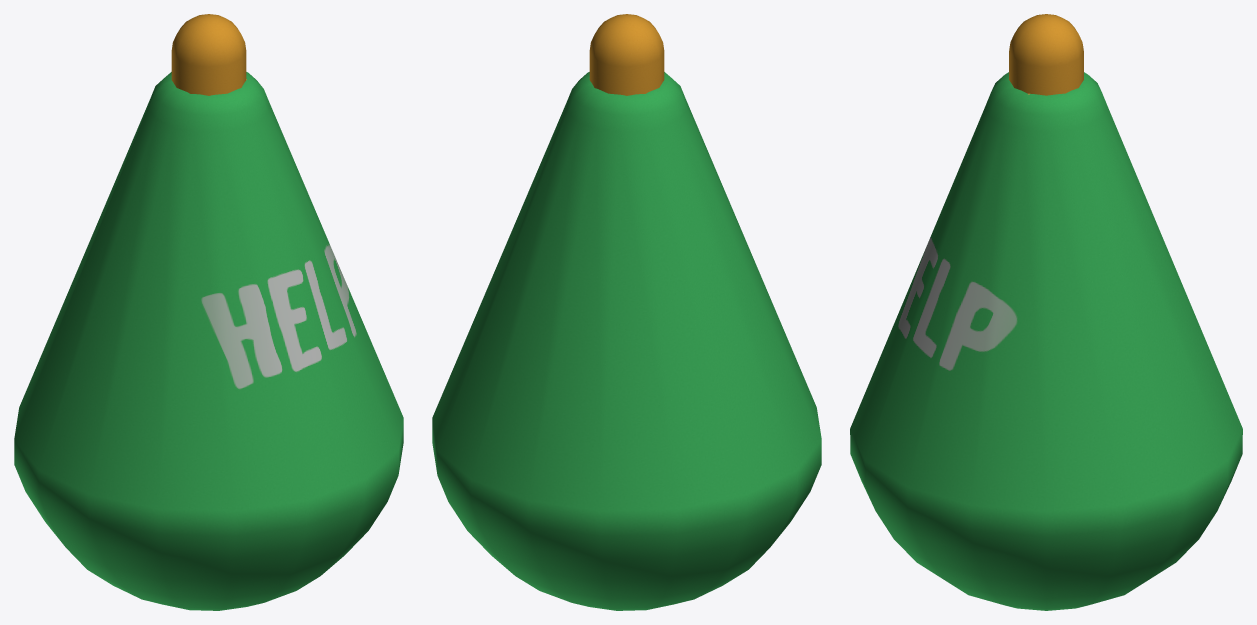
File: SM_BuoyHelp.fbx
3 renders of one model, left to right at view 1: azimuth 30°, elevation 25°; view 2: azimuth 150°, elevation 25°; view 3: azimuth 270°, elevation 25°, orthographic.
Visible parts, largest first — view 1: Buoy_Other, Buoy_Light01; view 2: Buoy_Other, Buoy_Light01; view 3: Buoy_Other, Buoy_Light01.
Boxes of the visible parts, x1=… form: Buoy_Other: x1=14, y1=72, x2=403, y2=610; Buoy_Light01: x1=171, y1=14, x2=246, y2=95; Buoy_Other: x1=432, y1=72, x2=821, y2=610; Buoy_Light01: x1=589, y1=14, x2=664, y2=95; Buoy_Other: x1=850, y1=72, x2=1242, y2=610; Buoy_Light01: x1=1009, y1=14, x2=1083, y2=95.
Bounding box in the file's own units: 5.8 × 9.37 × 5.8.
